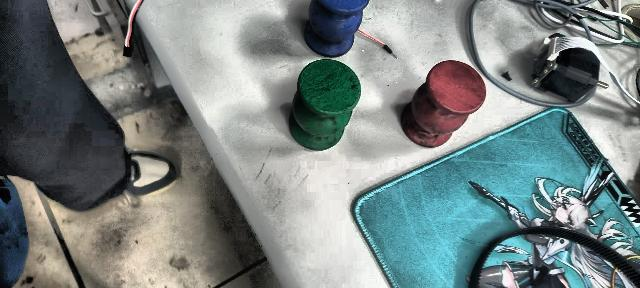blue: (303, 1, 369, 58)
green: (282, 57, 360, 155)
red: (400, 62, 485, 150)
